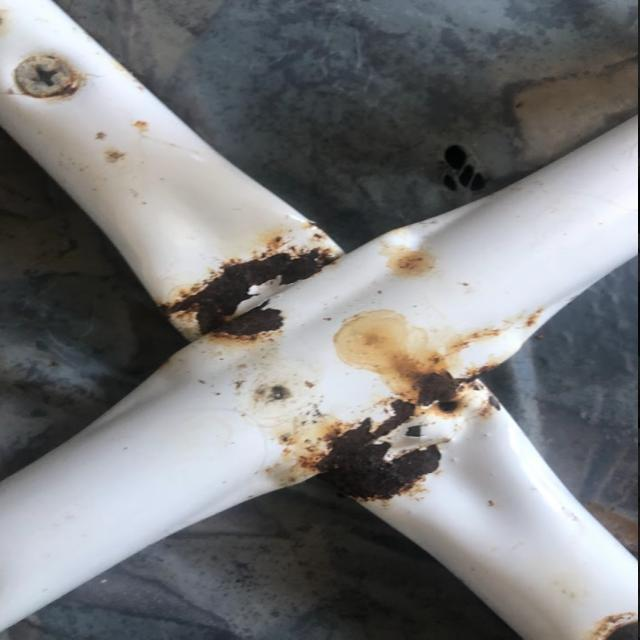Corrosion: (285, 246, 351, 287)
